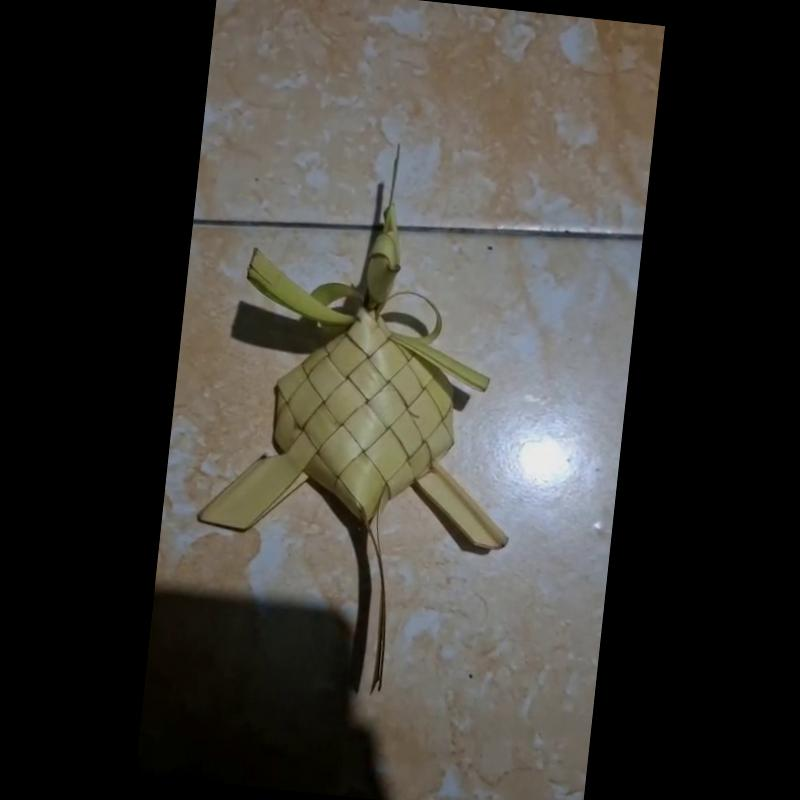Tipat Dampulan: (180, 135, 532, 713)
